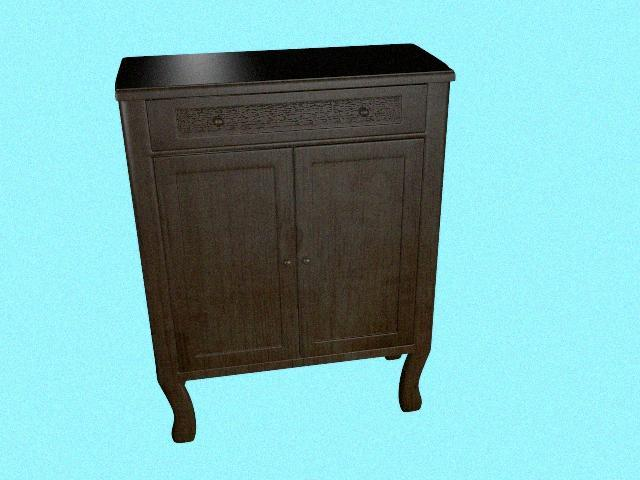cabinet_door: (166, 152, 296, 365), (297, 142, 419, 351), (124, 76, 446, 146)
handle: (354, 103, 373, 124), (207, 113, 228, 129), (301, 254, 315, 269), (280, 256, 294, 271)
